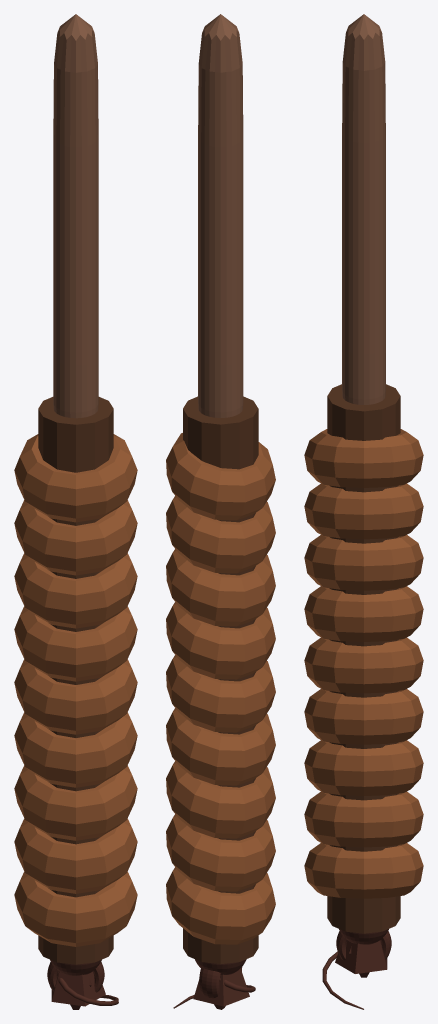
The model's file is Wand 416.glb.
The picture shows the model from 3 angles, left to right: view 1: azimuth 90°, elevation 25°; view 2: azimuth 150°, elevation 25°; view 3: azimuth 270°, elevation 25°; orthographic projection. The views are drawn at different scales.
Visible parts, largest first — view 1: GeneratedWand, Pommel_9, Pommel_4, Pommel_2, Pommel_10; view 2: GeneratedWand, Pommel_9, Pommel_2, Pommel_4, Pommel_10; view 3: GeneratedWand, Pommel_9, Pommel_4, Pommel_2, Pommel_10.
Boxes of the visible parts, x1,y1,x2,y2 form: GeneratedWand: (14,14,137,964); Pommel_9: (51,971,105,1006); Pommel_4: (50,959,101,975); Pommel_2: (47,962,104,992); Pommel_10: (57,971,118,1005); GeneratedWand: (166,14,275,964); Pommel_9: (193,968,249,1006); Pommel_2: (199,967,242,998); Pommel_4: (195,959,246,974); Pommel_10: (173,978,255,1008); GeneratedWand: (304,14,423,933); Pommel_9: (335,940,387,973); Pommel_4: (339,929,388,944); Pommel_2: (336,931,391,960); Pommel_10: (322,951,363,1009).
Bounding box in the file's own units: 0.0508 × 0.5233 × 0.0581.
